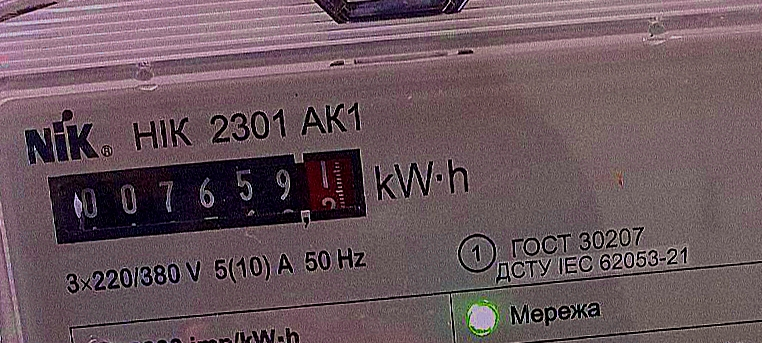0: (116, 180, 141, 218), (77, 183, 100, 223)
1: (314, 155, 333, 193)
5: (233, 166, 255, 204)
6: (193, 173, 218, 211)
7: (153, 176, 177, 216)
9: (271, 165, 294, 204)
screen: (37, 142, 377, 254)
